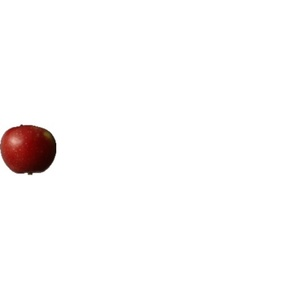maçã braeburn: (1, 118, 58, 173)
